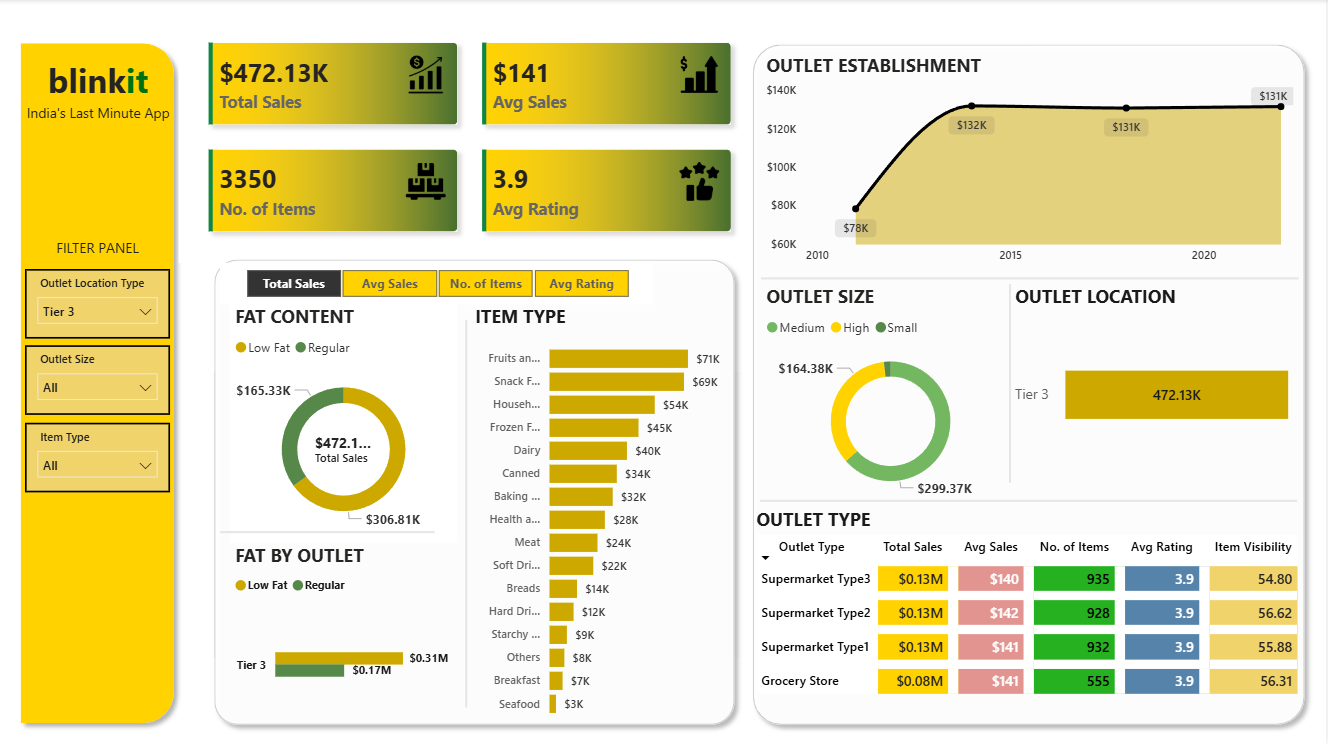

The page's visual inventory and layout, read from the dashboard file:
{"tool":"powerbi","page":{"name":"Page 1","canvas":[1280,720],"ordinal":0},"visuals":[{"type":"shape","box":[10.9,33.8,166,674],"z":0},{"type":"textbox","box":[16.9,95.3,155.6,38.6],"z":1000},{"type":"textbox","box":[479,33.8,207.5,650.3],"z":2000},{"type":"textbox","box":[32.6,51.9,124.3,62.7],"z":3000},{"type":"cardVisual","fields":{"Data":["BlinkIT Grocery Data.Total Sales","BlinkIT Grocery Data.Avg Sales","BlinkIT Grocery Data.No. of Items","BlinkIT Grocery Data.Avg Rating"]},"box":[172.5,13.3,562.2,241.3],"z":4000},{"type":"shape","box":[197.9,242.5,520,467],"z":5000},{"type":"donutChart","title":"FAT CONTENT","fields":{"Y":["BlinkIT Grocery Data.Total Sales"],"Category":["BlinkIT Grocery Data.Item Fat Content"]},"box":[222,294.4,219.6,230.4],"z":6000},{"type":"slicer","fields":{"Values":["Metrics.Metrics"]},"box":[212.3,254.6,418.6,39.8],"z":7000},{"type":"cardVisual","fields":{"Data":["BlinkIT Grocery Data.Total Sales"]},"box":[275.1,401.7,113.4,65.1],"z":8000},{"type":"clusteredBarChart","title":"FAT BY OUTLET","fields":{"Y":["BlinkIT Grocery Data.Total Sales"],"Category":["BlinkIT Grocery Data.Outlet Location Type"],"Series":["BlinkIT Grocery Data.Item Fat Content"]},"box":[222,524.8,216,178.6],"z":9000},{"type":"shape","box":[212.3,504.3,207.5,20.5],"z":10000},{"type":"shape","box":[419.8,310.1,60.3,374],"z":11000},{"type":"barChart","title":"ITEM TYPE","fields":{"Y":["BlinkIT Grocery Data.Total Sales"],"Category":["BlinkIT Grocery Data.Item Type"]},"box":[453.6,294.4,255.8,409],"z":12000},{"type":"shape","box":[717.8,35,550.1,674.4],"z":13000},{"type":"lineChart","title":"OUTLET ESTABLISHMENT ","fields":{"Y":["BlinkIT Grocery Data.Total Sales"],"Category":["BlinkIT Grocery Data.Outlet Establishment Year"]},"box":[734.7,51.9,518.8,212.3],"z":14000},{"type":"shape","box":[734.7,264.2,518.8,10.9],"z":15000},{"type":"donutChart","title":"OUTLET SIZE","fields":{"Y":["BlinkIT Grocery Data.Total Sales"],"Category":["BlinkIT Grocery Data.Outlet Size"]},"box":[734.7,275.1,250,215],"z":16000},{"type":"shape","box":[944.6,275.1,60.3,191.8],"z":17000},{"type":"funnel","title":"OUTLET LOCATION","fields":{"Y":["Sum(BlinkIT Grocery Data.Sales)"],"Category":["BlinkIT Grocery Data.Outlet Location Type"]},"box":[974.8,275.1,278.7,191.8],"z":18000},{"type":"shape","box":[733.5,479,518.8,10.9],"z":19000},{"type":"pivotTable","title":"OUTLET TYPE","fields":{"Rows":["BlinkIT Grocery Data.Outlet Type"],"Values":["BlinkIT Grocery Data.Total Sales","BlinkIT Grocery Data.Avg Sales","BlinkIT Grocery Data.No. of Items","BlinkIT Grocery Data.Avg Rating","Sum(BlinkIT Grocery Data.Item Visibility)"]},"box":[725.1,489.8,539.3,201.5],"z":20000},{"type":"slicer","fields":{"Values":["BlinkIT Grocery Data.Outlet Location Type"]},"box":[24.1,260.6,139.9,67.6],"z":20001},{"type":"slicer","fields":{"Values":["BlinkIT Grocery Data.Outlet Size"]},"box":[24.1,334.2,139.9,67.6],"z":20002},{"type":"slicer","fields":{"Values":["BlinkIT Grocery Data.Item Type"]},"box":[24.1,409,139.9,67.6],"z":20003},{"type":"textbox","box":[24.1,225.6,139.9,29],"z":20004}]}

Visuals, with their boxes in screenshot pixels (x1, y1, x2, y2), scaled from the page's 1280x720 canvas onto the 1328x744 screenshot:
shape: 11/35/184/731
textbox: 18/98/179/138
textbox: 497/35/712/707
textbox: 34/54/163/118
cardVisual - BlinkIT Grocery Data.Total Sales x BlinkIT Grocery Data.Avg Sales: 179/14/762/263
shape: 205/251/745/733
"FAT CONTENT" donutChart: 230/304/458/542
slicer - Metrics.Metrics: 220/263/655/304
cardVisual - BlinkIT Grocery Data.Total Sales: 285/415/403/482
"FAT BY OUTLET" clusteredBarChart: 230/542/454/727
shape: 220/521/436/542
shape: 436/320/498/707
"ITEM TYPE" barChart: 471/304/736/727
shape: 745/36/1315/733
"OUTLET ESTABLISHMENT " lineChart: 762/54/1301/273
shape: 762/273/1301/284
"OUTLET SIZE" donutChart: 762/284/1022/506
shape: 980/284/1043/482
"OUTLET LOCATION" funnel: 1011/284/1301/482
shape: 761/495/1299/506
"OUTLET TYPE" pivotTable: 752/506/1312/714
slicer - BlinkIT Grocery Data.Outlet Location Type: 25/269/170/339
slicer - BlinkIT Grocery Data.Outlet Size: 25/345/170/415
slicer - BlinkIT Grocery Data.Item Type: 25/423/170/492
textbox: 25/233/170/263
